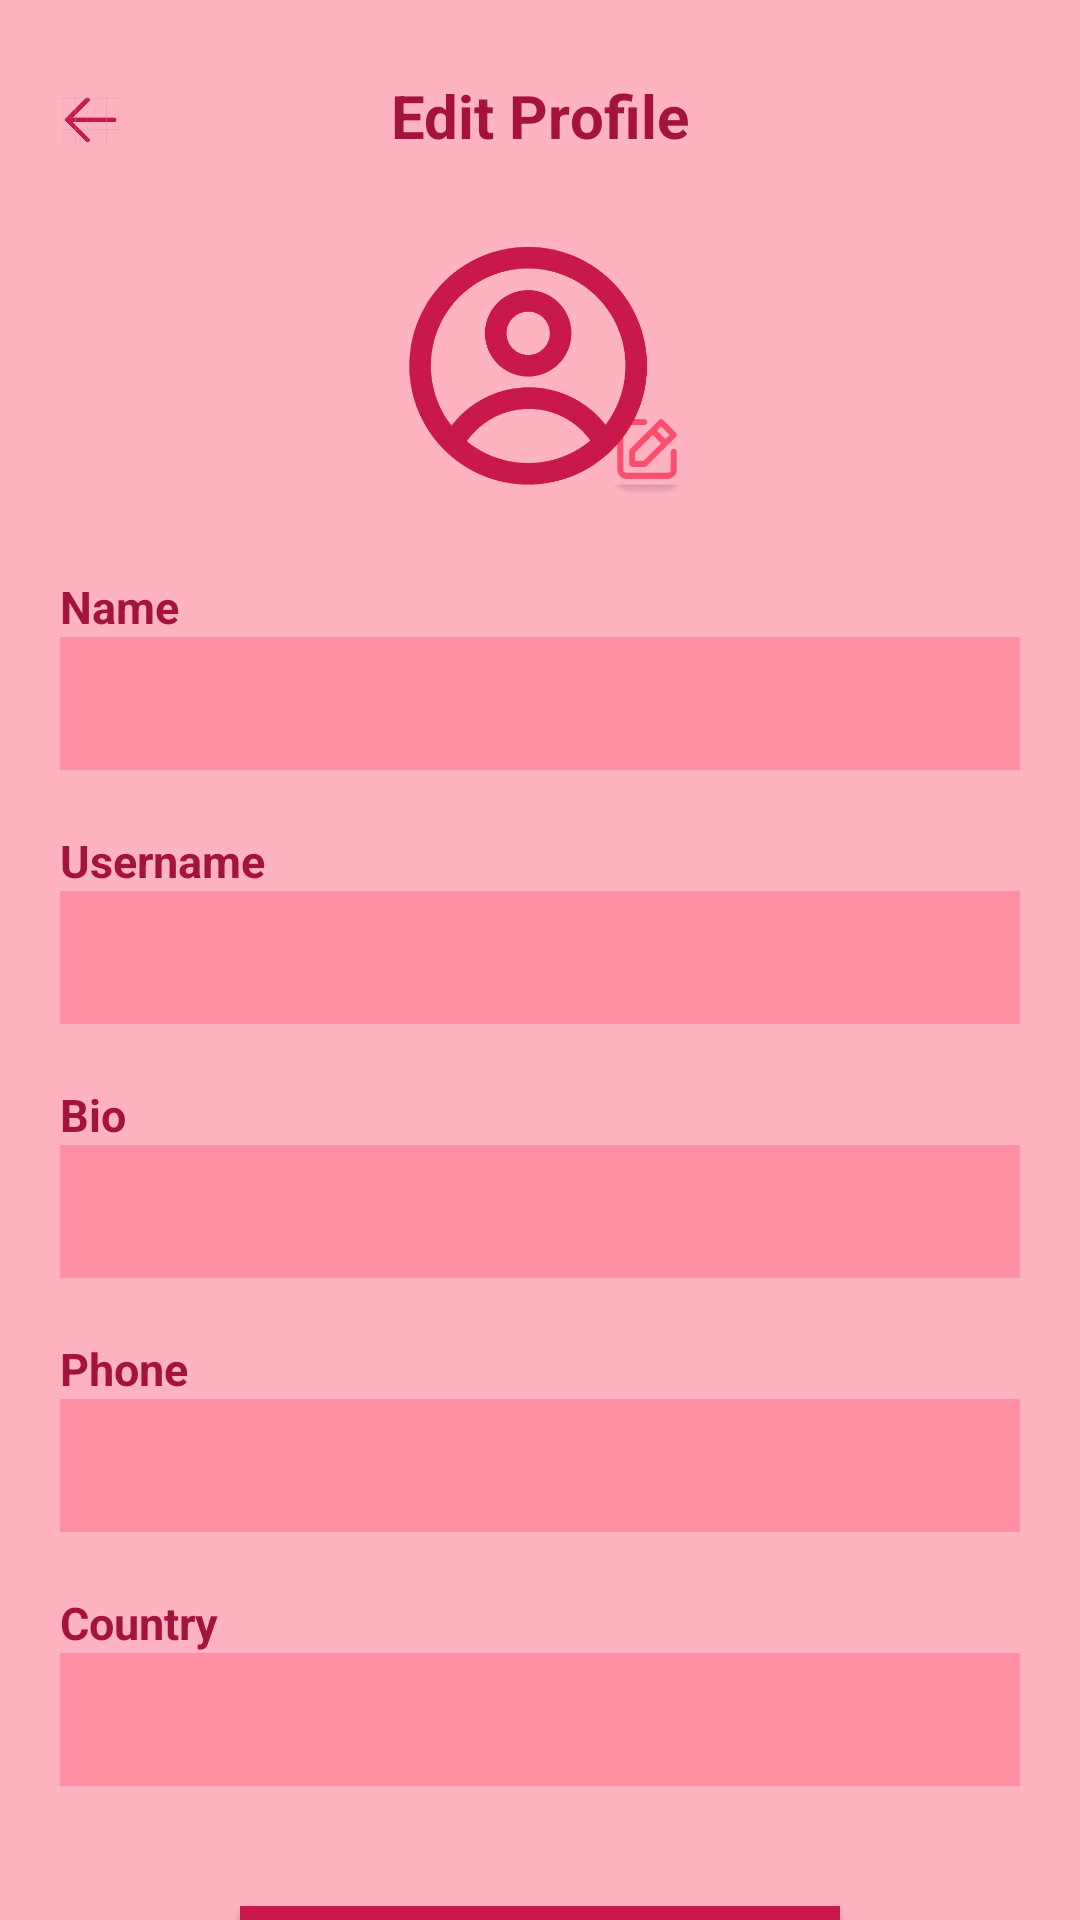

Where to tap for icons on this 1080×1920 app screen, as point (x, y):
backbtncolor: point (91, 119)
